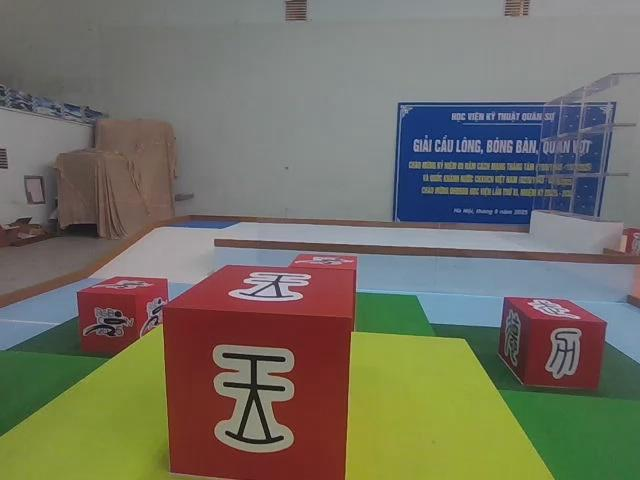R1: (76, 270, 168, 355)
R2 Fake: (497, 294, 613, 393)
R2 Real: (159, 261, 357, 480)
